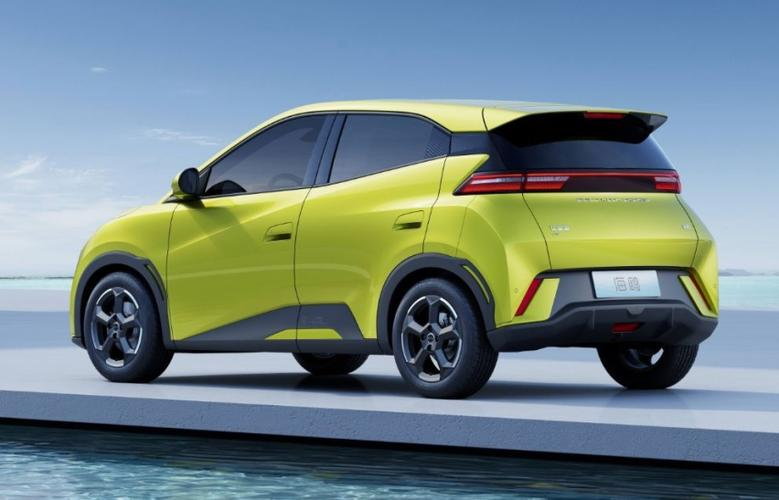汽车: (54, 91, 736, 414)
